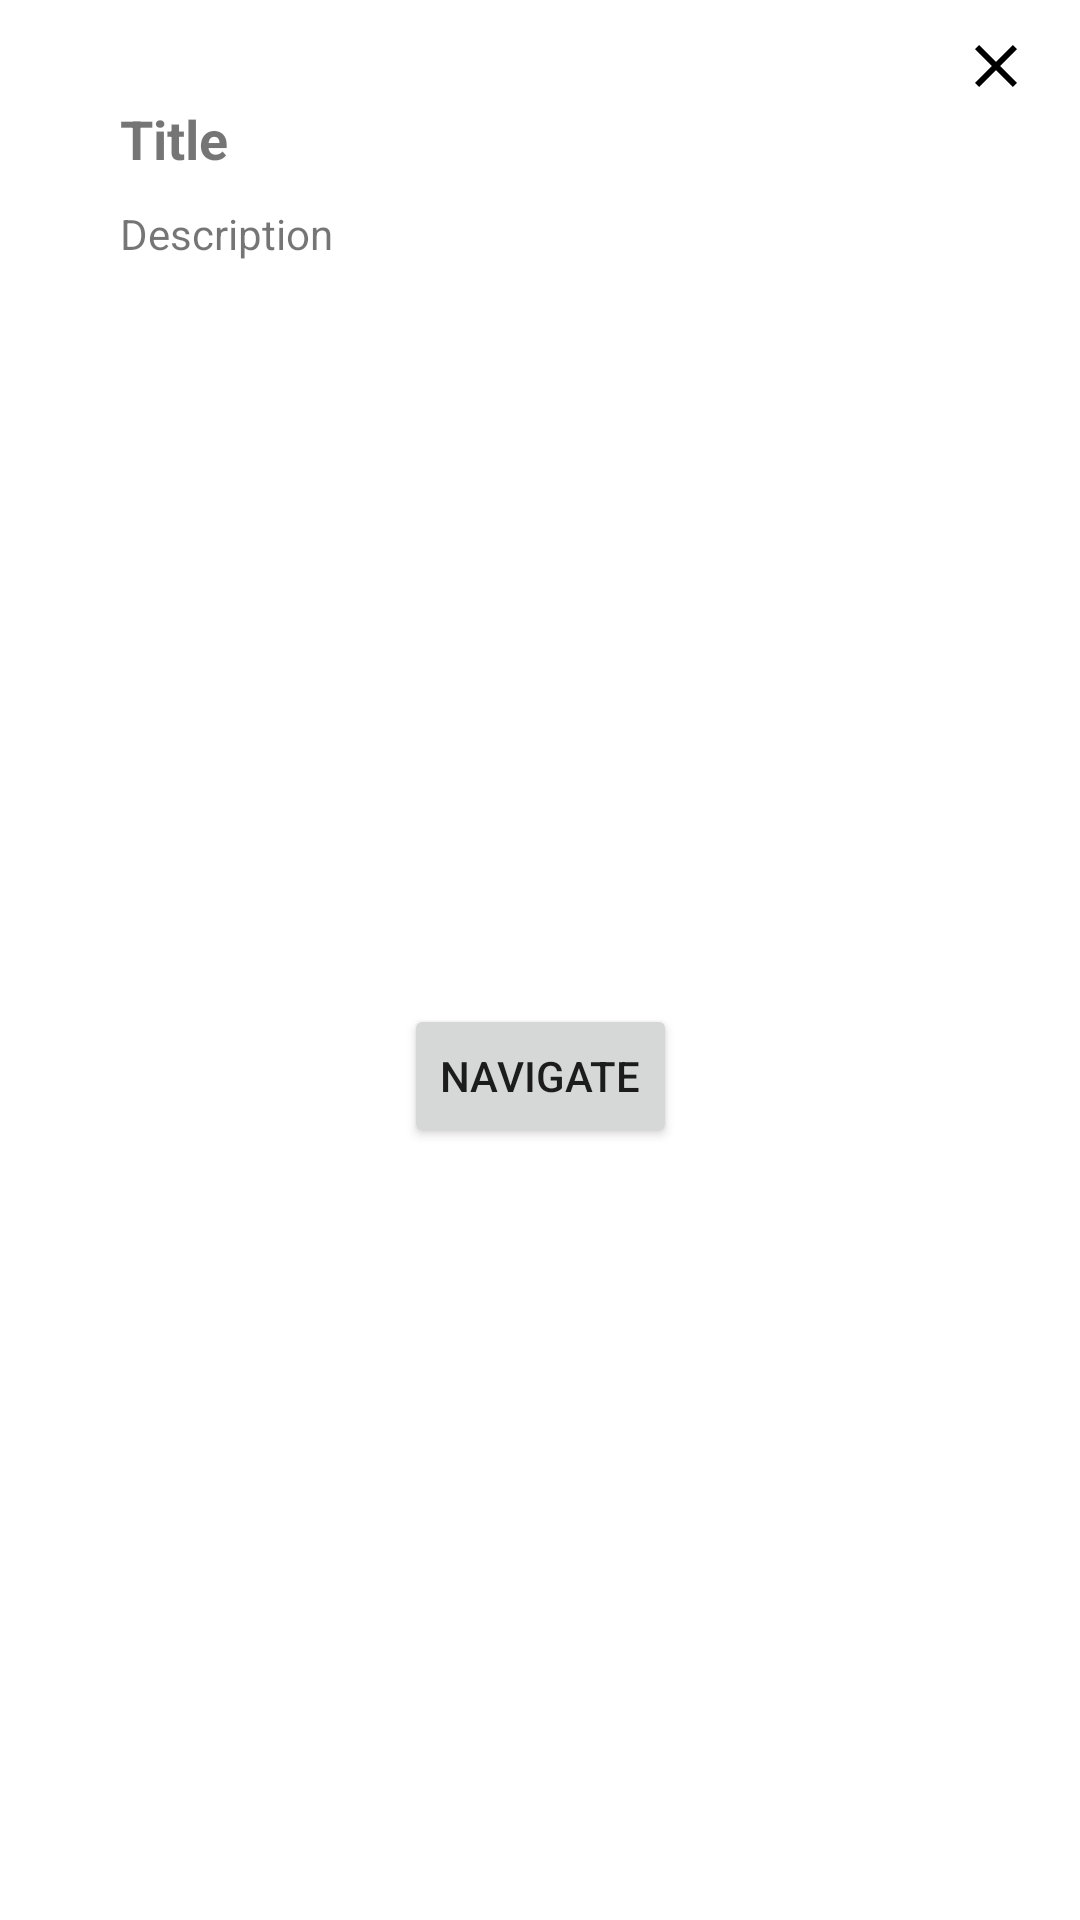

Where icons sit on this 1080x1920 app screen, as region(x1, y1, x2, y2):
close: region(975, 45, 1017, 87)
